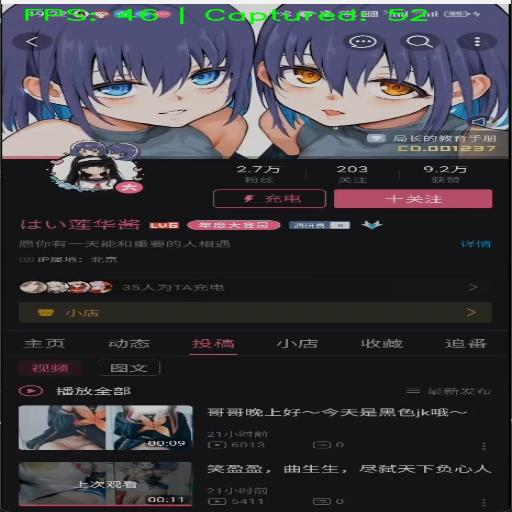back: (10, 32, 60, 54)
butten: (17, 403, 502, 457), (9, 464, 507, 510), (179, 333, 254, 355), (14, 331, 80, 353), (97, 331, 163, 353), (265, 331, 325, 353), (441, 334, 506, 354), (353, 337, 417, 356), (454, 34, 501, 53), (448, 234, 496, 250)
